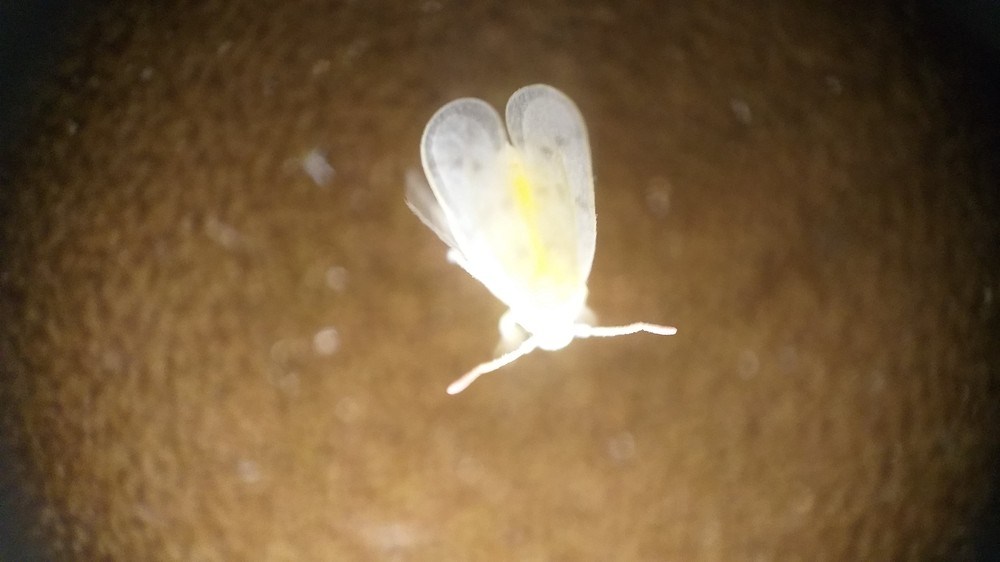Mosca Blanca: (395, 75, 705, 410)
